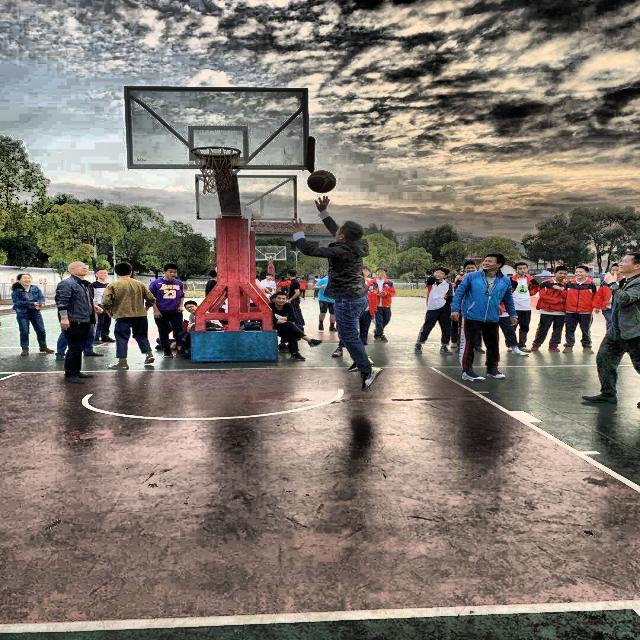board: (307, 170, 337, 193)
rim: (189, 146, 242, 194)
